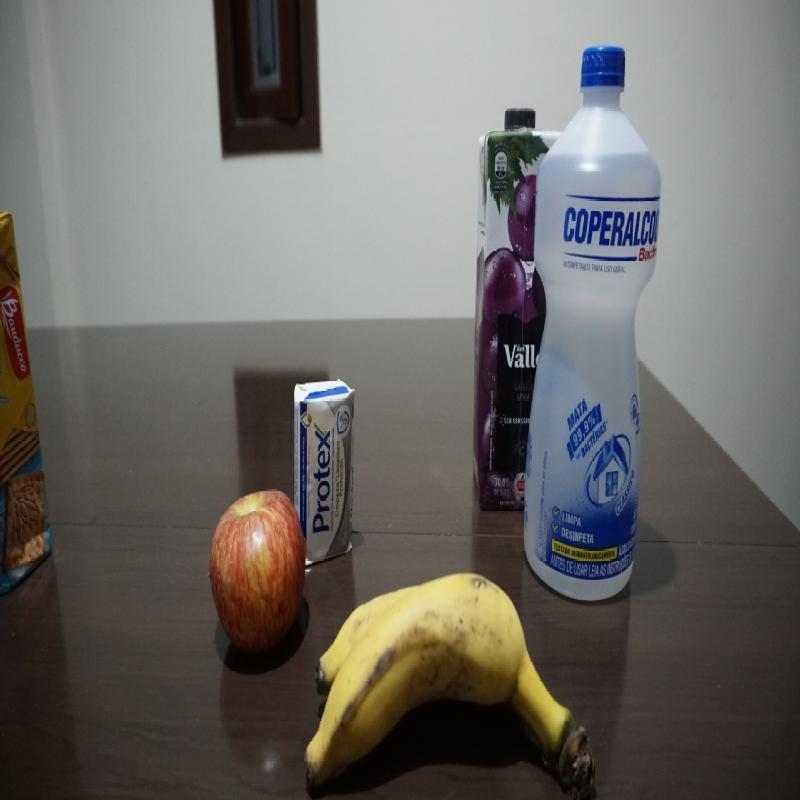Alcohol Bottle: (523, 45, 662, 608)
Apple: (208, 486, 308, 648)
Banana: (303, 571, 594, 798)
Cracker: (0, 211, 54, 599)
Soap: (292, 380, 354, 568)
